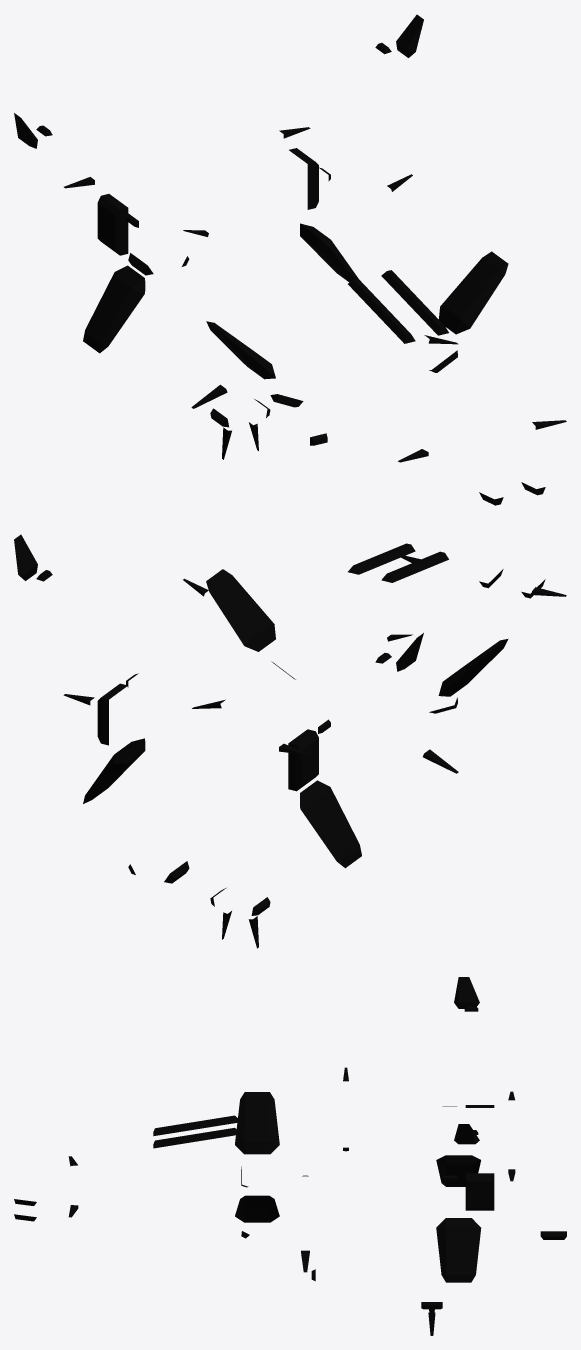
Rendered from tan_cf_assa_01_t3.glb.
3 renders of one model, top to bottom at view 1: azimuth 30°, elevation 25°; view 2: azimuth 150°, elevation 25°; view 3: azimuth 270°, elevation 25°, orthographic. The views are drawn at different scales.
Parts seen in each view (by area): view 1: tan_assault_fregate_01_t3_LOD0; view 2: tan_assault_fregate_01_t3_LOD0; view 3: tan_assault_fregate_01_t3_LOD0.
Part boxes in pixels (x1,y1,x2,y2): tan_assault_fregate_01_t3_LOD0: (14, 14, 566, 505); tan_assault_fregate_01_t3_LOD0: (14, 534, 566, 948); tan_assault_fregate_01_t3_LOD0: (14, 977, 566, 1335).
Size of what is drawn, in the model's own units: 2 by 1.77 by 3.18.
Materials: 1 (1 with a texture image).
